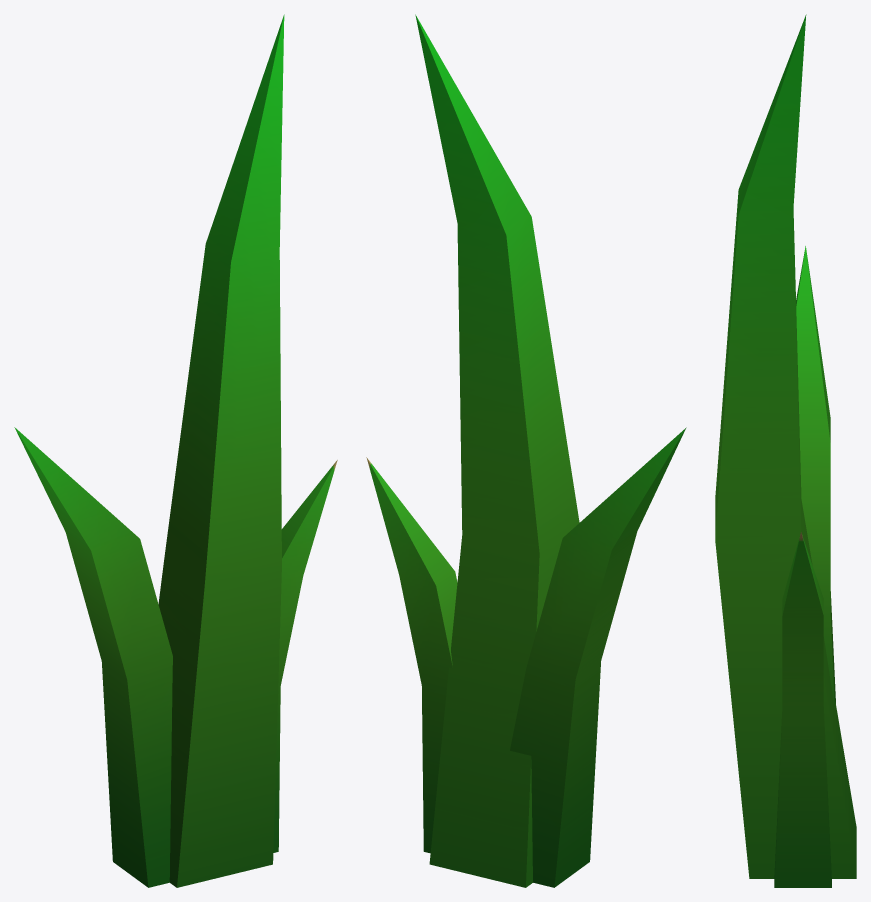
Rendered from SmallGrass.FBX.
3 renders of one model, left to right at view 1: azimuth 30°, elevation 25°; view 2: azimuth 150°, elevation 25°; view 3: azimuth 270°, elevation 25°, orthographic. The views are drawn at different scales.
Visible parts, largest first — view 1: Box014; view 2: Box014; view 3: Box014.
Boxes of the visible parts, left/top/right/bottom form: Box014: left=14, top=14, right=337, bottom=887; Box014: left=366, top=14, right=686, bottom=887; Box014: left=715, top=14, right=856, bottom=887.
Size of the model in its own units: 11.57 by 28.26 by 4.1.
